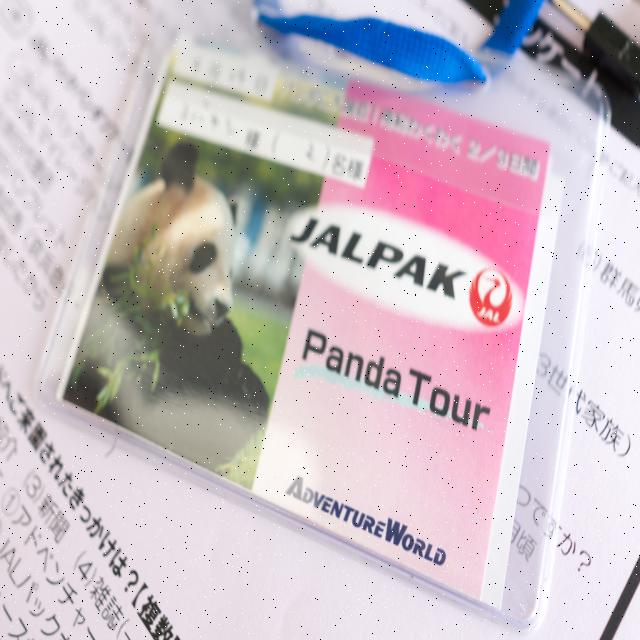panda: (74, 142, 245, 398)
